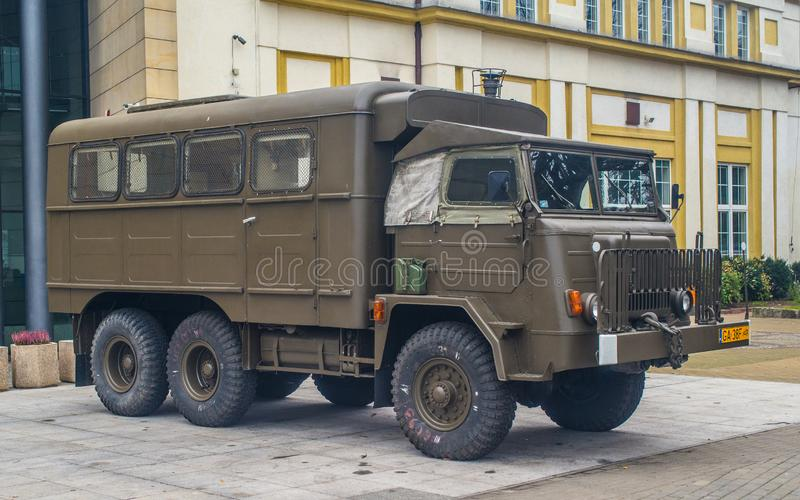camion: (52, 85, 678, 443)
